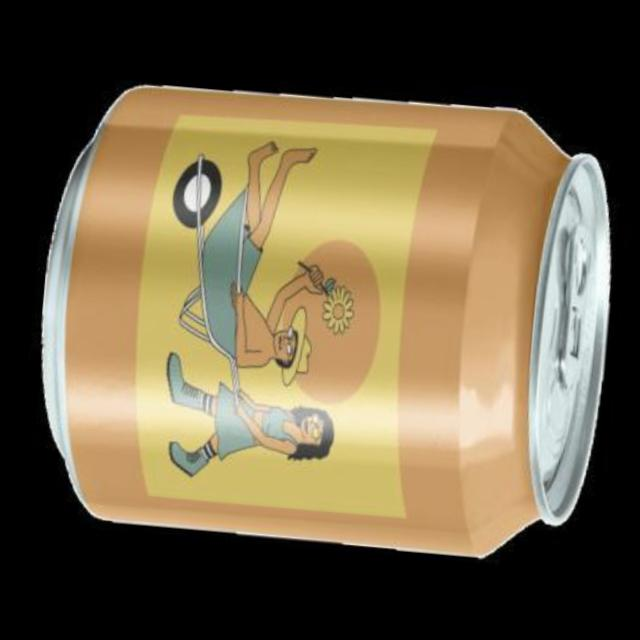metal: (46, 84, 612, 552)
